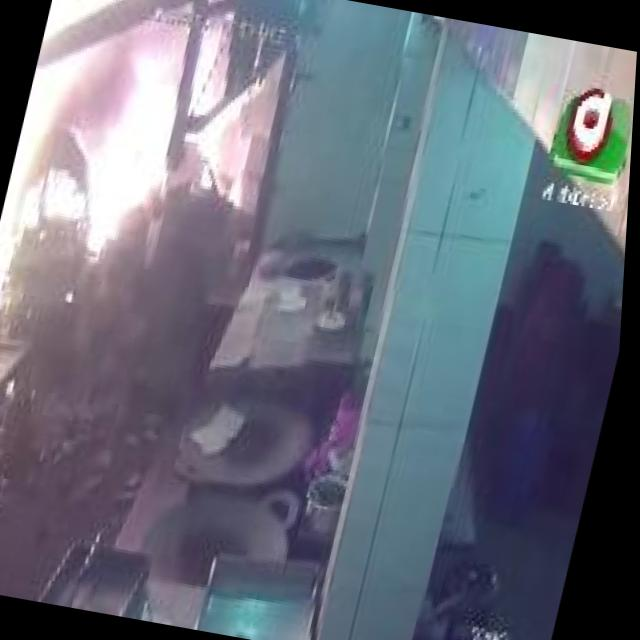fire: (0, 0, 237, 343), (182, 70, 275, 204)
